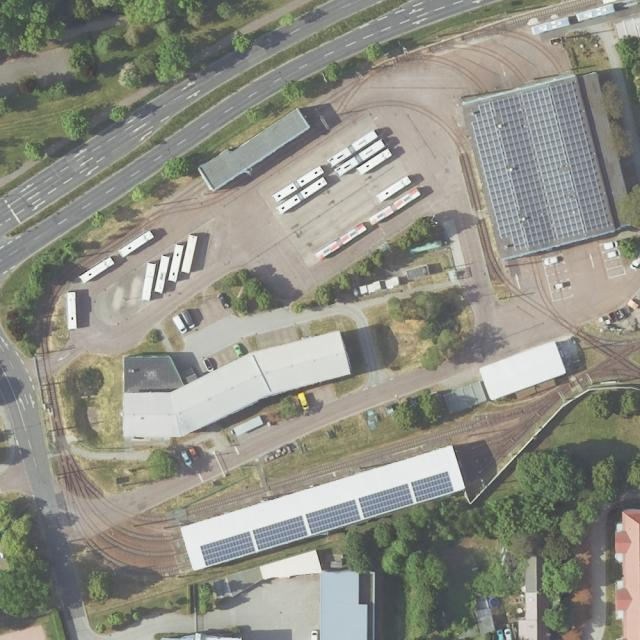PV: (471, 81, 610, 249), (306, 498, 361, 534), (199, 531, 255, 566), (358, 483, 415, 517), (254, 515, 307, 550), (412, 470, 454, 501)
